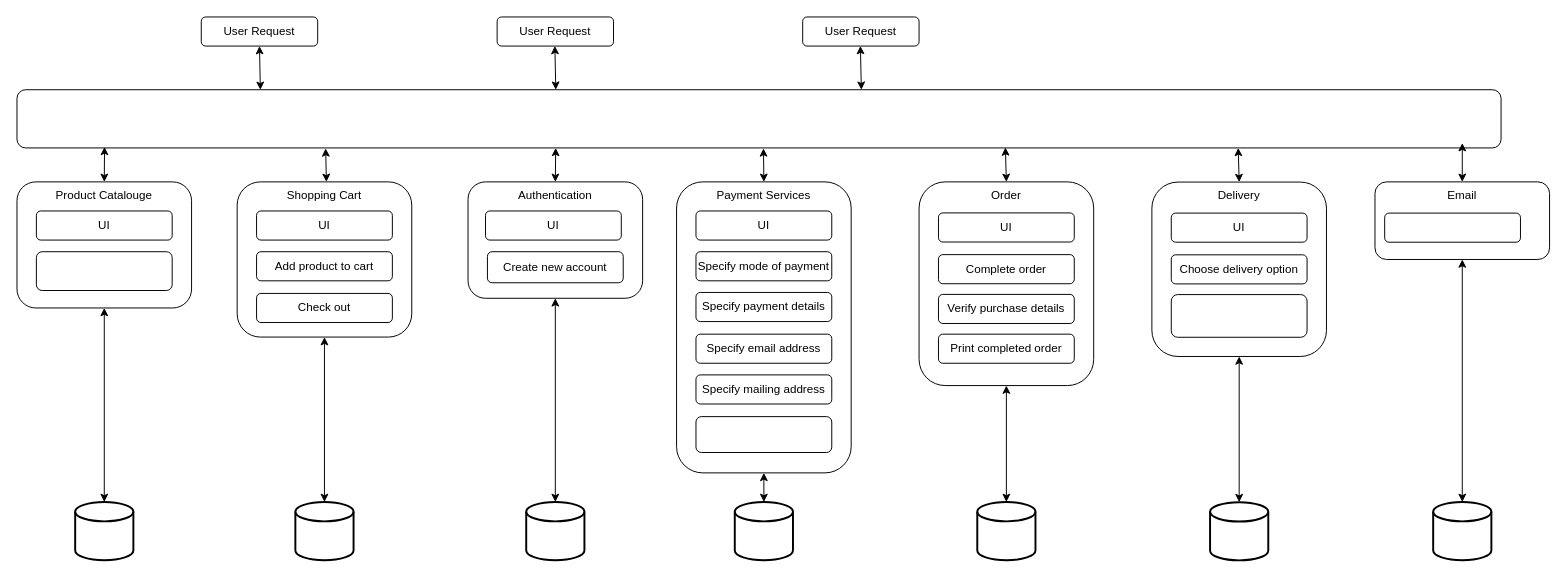
The diagram is 1567 pixels wide and 578 high, and some of its shapes have lost their labels. The shapes that lost their labels are listed below. From the top down, each one's centre as x and y in pixels, then its label:
(758,118): API Layer
(1452,227): Send email
(103,271): Search online product catalogue
(1238,315): Specify Self-pickup details
(763,434): Complete card transaction
(104,531): Product DB
(324,531): Shopping Cart DB
(555,531): Account DB
(763,531): Payment DB
(1006,531): Order DB
(1239,531): Delivery DB
(1462,531): Email DB
